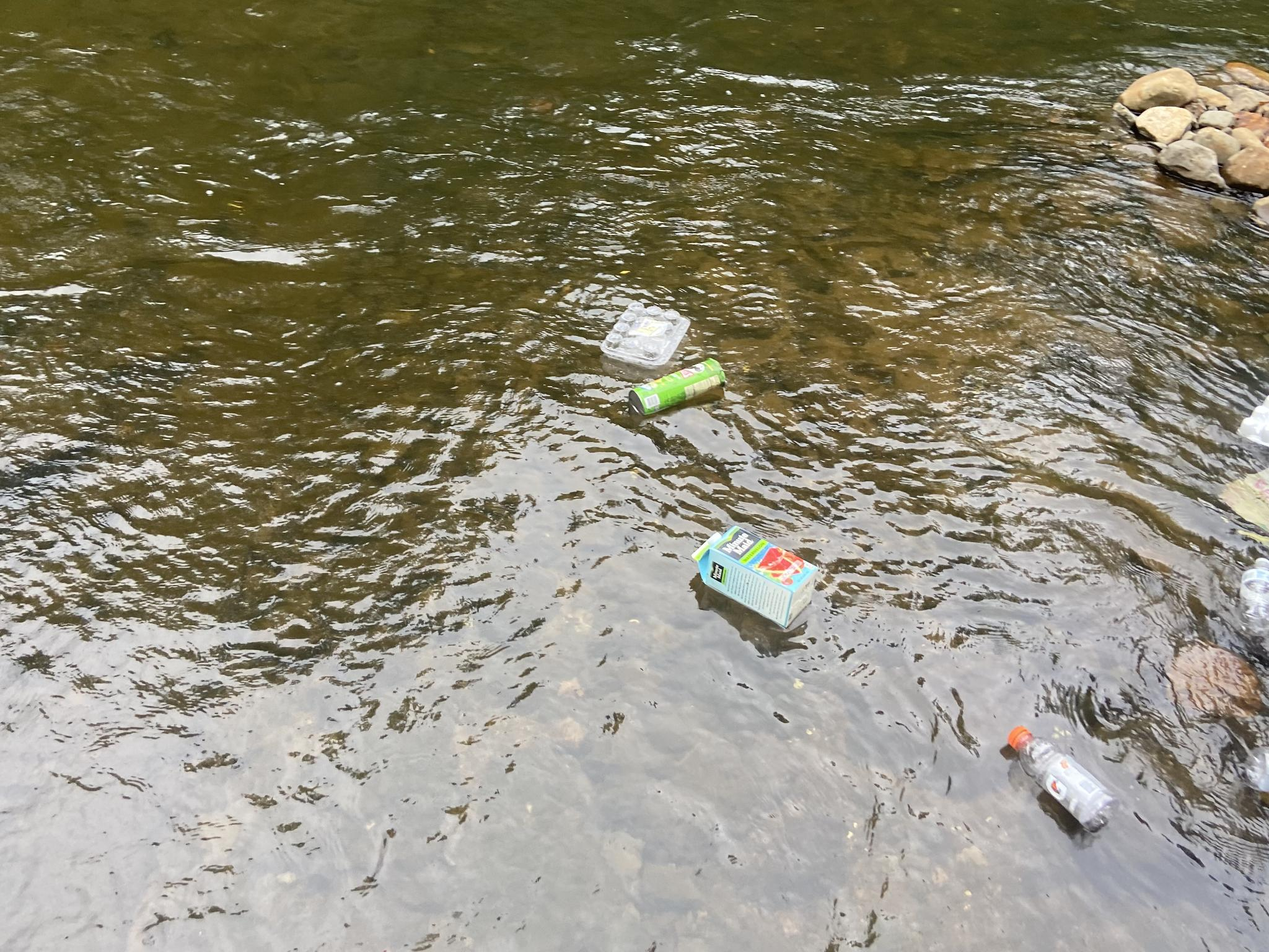cardboard: (685, 515, 830, 642), (1216, 457, 1269, 540)
metal: (609, 346, 740, 433)
plastic: (995, 719, 1122, 844), (595, 291, 699, 378), (1234, 554, 1269, 642), (1234, 390, 1269, 459), (1242, 739, 1269, 795)
